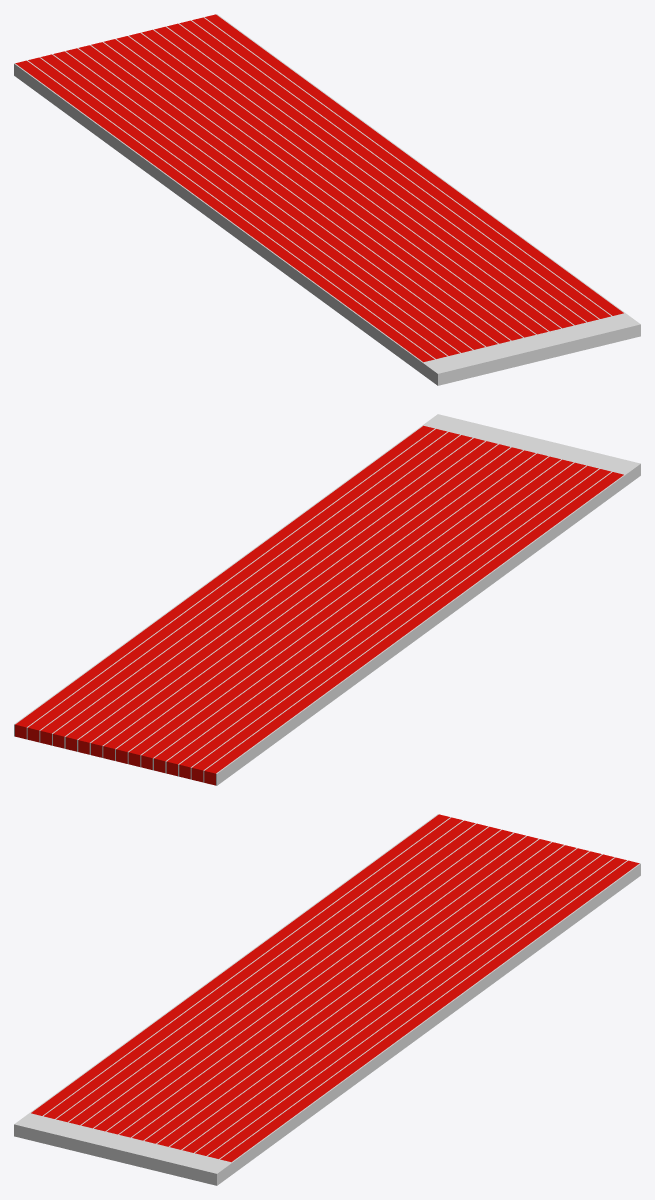
The model's file is TR_WaitingRoom_Floor_16.fbx.
3 views of the same model, one above another, from view 1: azimuth 30°, elevation 25°; view 2: azimuth 150°, elevation 25°; view 3: azimuth 330°, elevation 25° (orthographic).
Parts seen in each view (by area): view 1: WaitingRoom_Floor(16); view 2: WaitingRoom_Floor(16); view 3: WaitingRoom_Floor(16).
Boxes of the visible parts, <box> form: WaitingRoom_Floor(16): <box>14,14,640,385</box>; WaitingRoom_Floor(16): <box>14,414,640,785</box>; WaitingRoom_Floor(16): <box>14,814,640,1185</box>.
Size of the model in its own units: 1770 by 100 by 6400.
